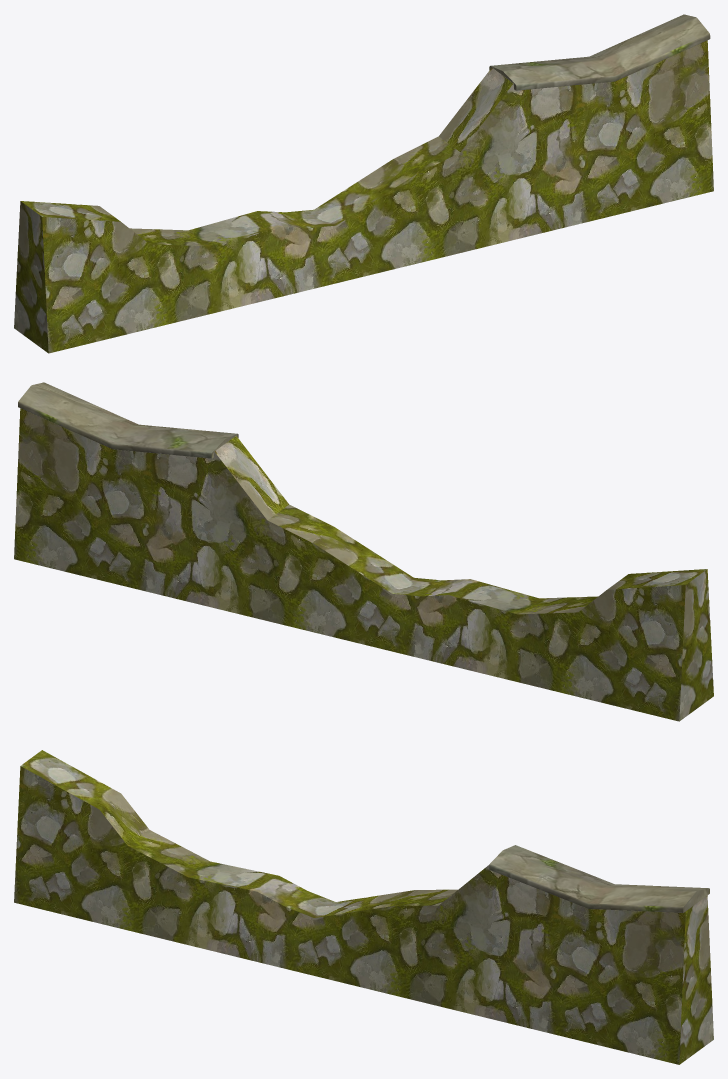
File: Muro Danificado 2.fbx
The picture shows the model from 3 angles, top to bottom: view 1: azimuth 30°, elevation 25°; view 2: azimuth 150°, elevation 25°; view 3: azimuth 330°, elevation 25°; orthographic projection.
Visible parts, largest first — view 1: Portão muro pedra danificado.001; view 2: Portão muro pedra danificado.001; view 3: Portão muro pedra danificado.001.
Boxes of the visible parts, <box> form: Portão muro pedra danificado.001: <box>14,14,713,353</box>; Portão muro pedra danificado.001: <box>14,382,713,721</box>; Portão muro pedra danificado.001: <box>14,750,713,1064</box>.
Bounding box in the file's own units: 845 × 195 × 76.15.
